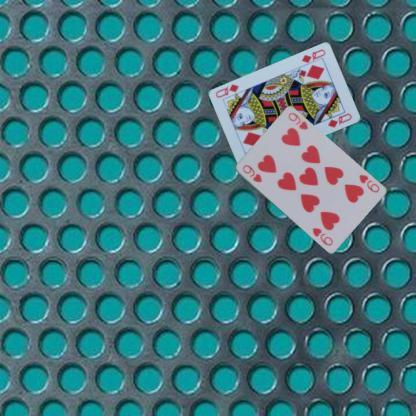9h: (356, 172, 381, 194), (240, 162, 264, 184)
Qd: (299, 47, 326, 68)
